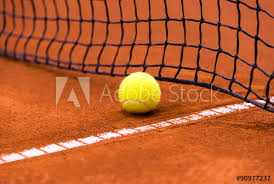tennis_ball: (118, 71, 161, 114)
